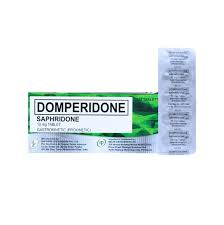Domperidone: (34, 99, 126, 114)
